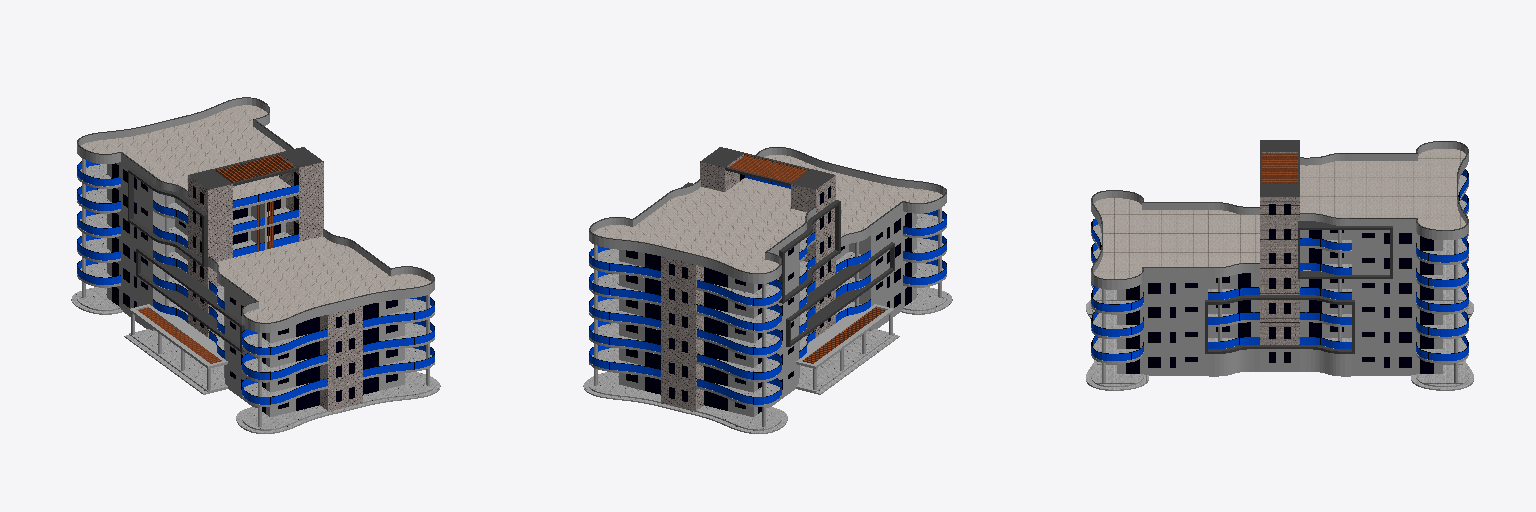
3 views of the same model, side by side, from view 1: azimuth 30°, elevation 25°; view 2: azimuth 150°, elevation 25°; view 3: azimuth 270°, elevation 25° (orthographic).
Parts seen in each view (by area): view 1: Apartment_Building_6_obj; view 2: Apartment_Building_6_obj; view 3: Apartment_Building_6_obj.
Part boxes in pixels (x1,y1,x2,y2): Apartment_Building_6_obj: (71, 97, 440, 433); Apartment_Building_6_obj: (583, 147, 952, 433); Apartment_Building_6_obj: (1086, 140, 1473, 390).
Bounding box in the file's own units: 23.71 × 20.5 × 41.15.
9 materials, 4 textured.